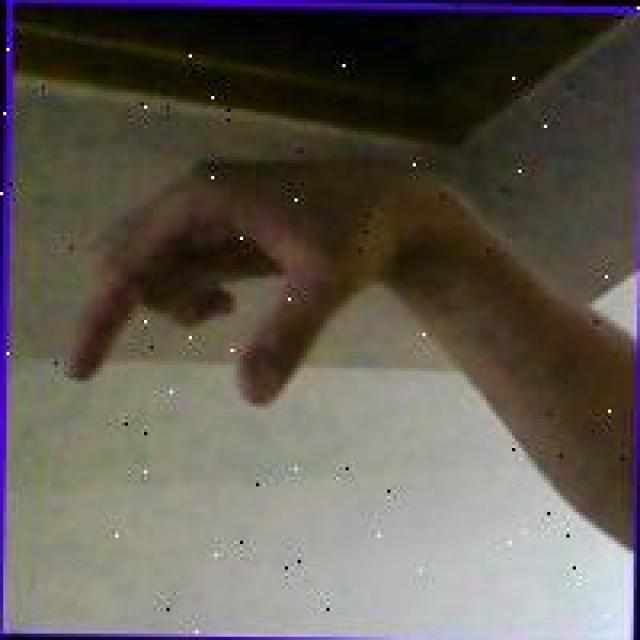Q: (48, 138, 435, 419)
